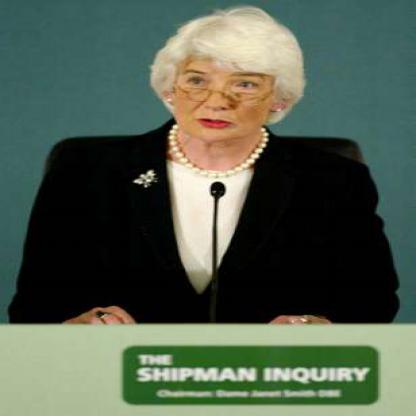face: (171, 33, 285, 146)
